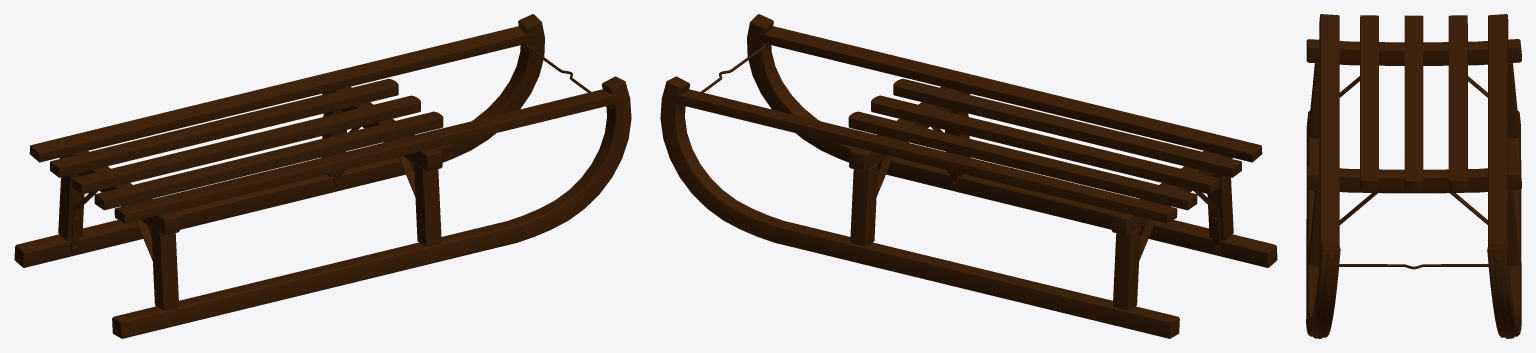
The model's file is sledge.obj.
The picture shows the model from 3 angles, left to right: view 1: azimuth 30°, elevation 25°; view 2: azimuth 150°, elevation 25°; view 3: azimuth 270°, elevation 25°; orthographic projection.
Visible parts, largest first — view 1: Sled01Old; view 2: Sled01Old; view 3: Sled01Old.
Boxes of the visible parts, x1,y1,x2,y2 form: Sled01Old: [14, 14, 631, 338]; Sled01Old: [660, 14, 1277, 338]; Sled01Old: [1306, 14, 1521, 338].
Bounding box in the file's own units: 1.1 × 0.2668 × 0.4008.
